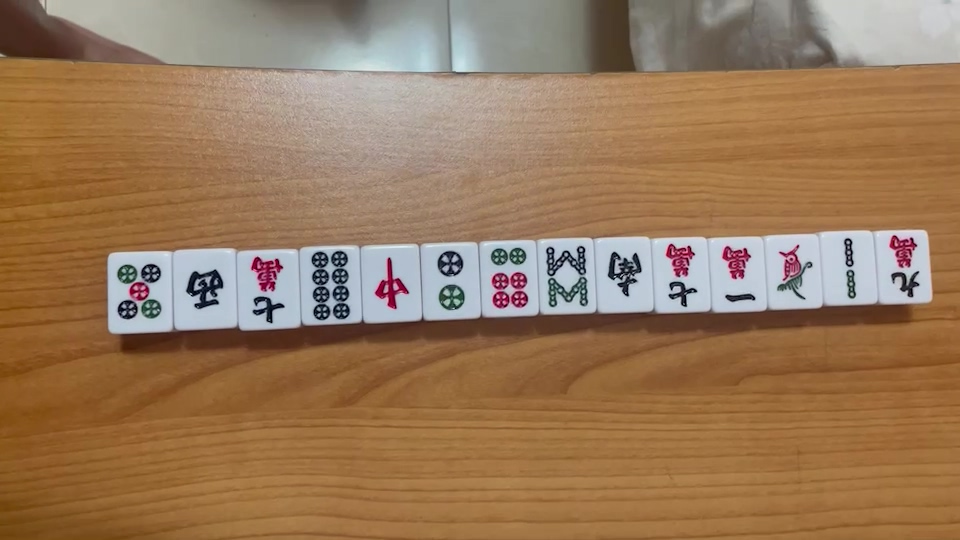b-1: (773, 246, 815, 300)
b-2: (832, 238, 866, 302)
b-8: (542, 244, 590, 307)
c-1: (717, 242, 757, 304)
c-7: (246, 256, 286, 324), (660, 243, 701, 307)
c-9: (881, 231, 926, 300)
d-2: (435, 250, 470, 310)
d-5: (112, 259, 165, 323)
d-6: (491, 246, 530, 309)
d-8: (308, 249, 353, 319)
honors-red: (364, 252, 413, 315)
honors-south: (599, 246, 645, 302)
honors-west: (181, 261, 226, 313)
